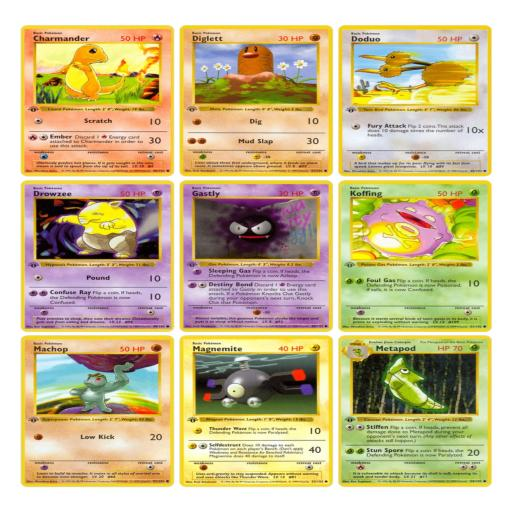card: (19, 335, 175, 488), (339, 24, 492, 177), (21, 24, 174, 176), (180, 24, 333, 176), (180, 180, 333, 332), (338, 180, 491, 332), (180, 335, 333, 487), (339, 335, 492, 487), (21, 179, 173, 331)
